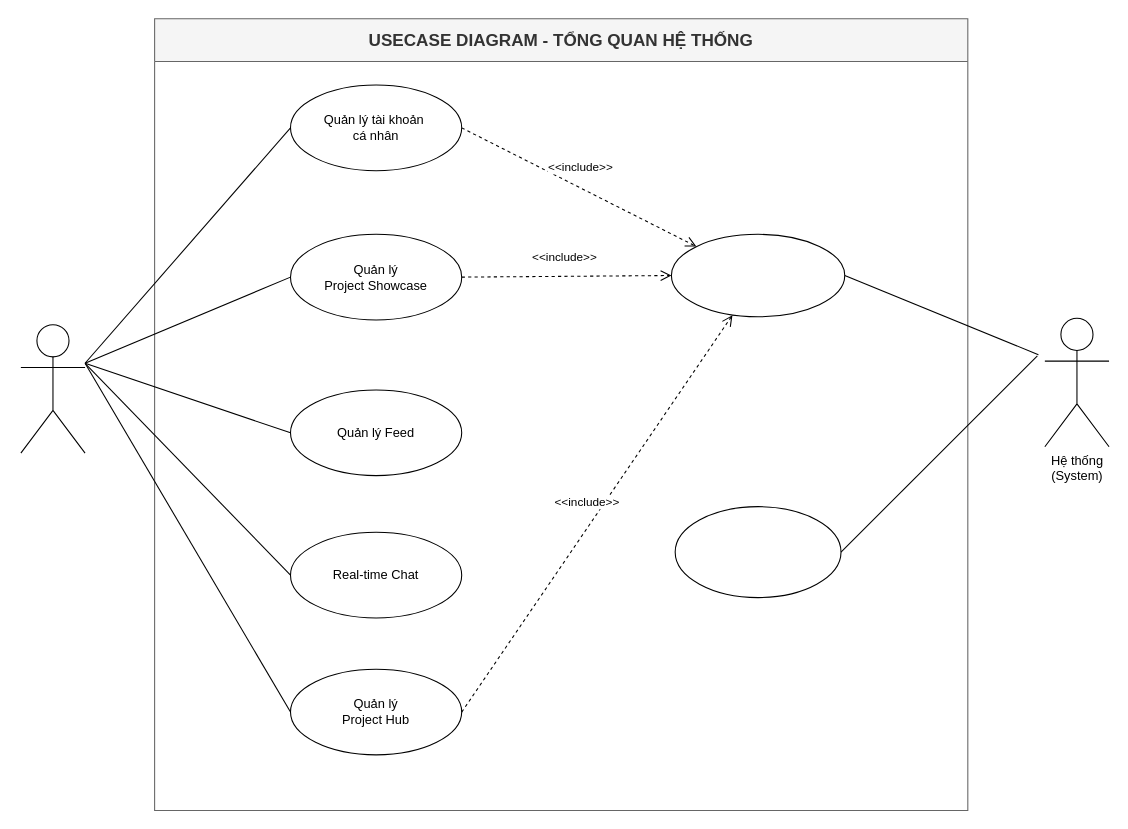
Some shapes in this 1128 by 829 pixel diagram are drawn without their labels. Here are the shapes that lost their labels. From the top down, the centre of each, then its label:
At (x=757, y=275): "Upload Files (Cloudinary)".
At (x=52, y=388): "Người dùng (User)".
At (x=757, y=552): "Gửi Notifications".
